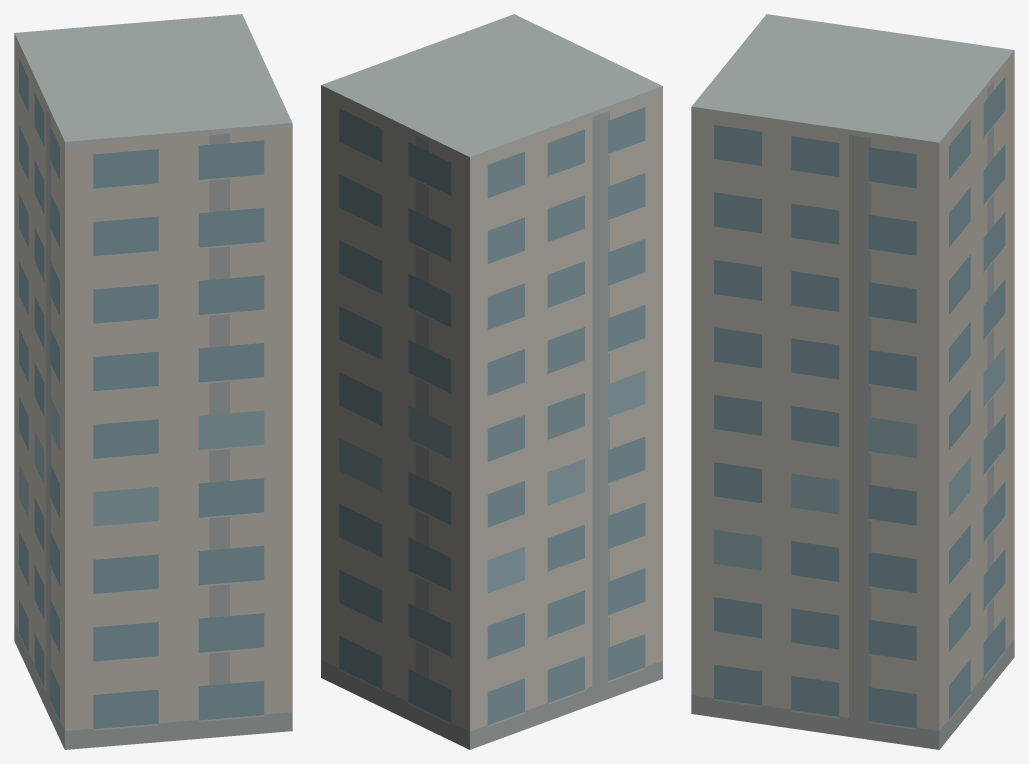
File: residential-8f28cbcf-2973-4083-b216-43ffc9fdcf9d.glb
3 views of the same model, side by side, from view 1: azimuth 30°, elevation 25°; view 2: azimuth 150°, elevation 25°; view 3: azimuth 270°, elevation 25° (orthographic). The views are drawn at different scales.
Visible parts, largest first — view 1: residential-8f28cbcf-2973-4083-b216-43ffc9fdcf9d.tmp; view 2: residential-8f28cbcf-2973-4083-b216-43ffc9fdcf9d.tmp; view 3: residential-8f28cbcf-2973-4083-b216-43ffc9fdcf9d.tmp.
Boxes of the visible parts, x1,y1,x2,y2 form: residential-8f28cbcf-2973-4083-b216-43ffc9fdcf9d.tmp: (14, 14, 292, 749); residential-8f28cbcf-2973-4083-b216-43ffc9fdcf9d.tmp: (321, 14, 662, 749); residential-8f28cbcf-2973-4083-b216-43ffc9fdcf9d.tmp: (691, 14, 1014, 749).
Size of the model in its own units: 12.73 by 28 by 13.51.
